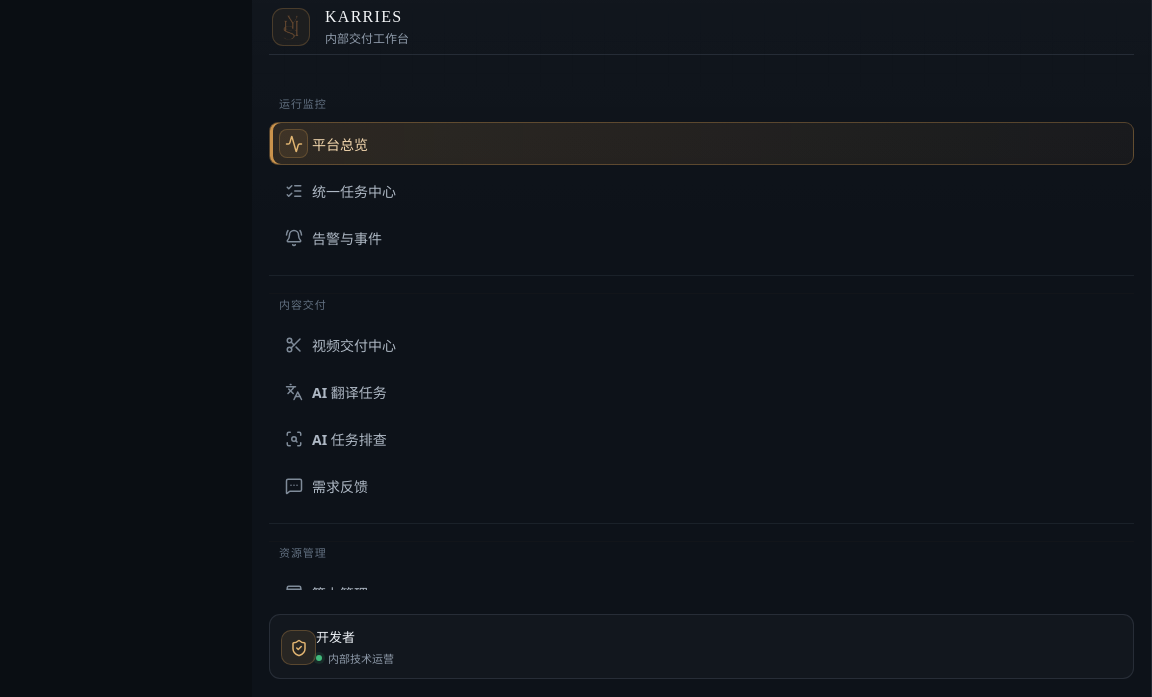
Test: opens the platform overview from the developer navigation
The image size is (1152, 697).
Step 1. Click the button "平台总览" → (340, 144), box [269,122,1134,165]
(page scrolled)
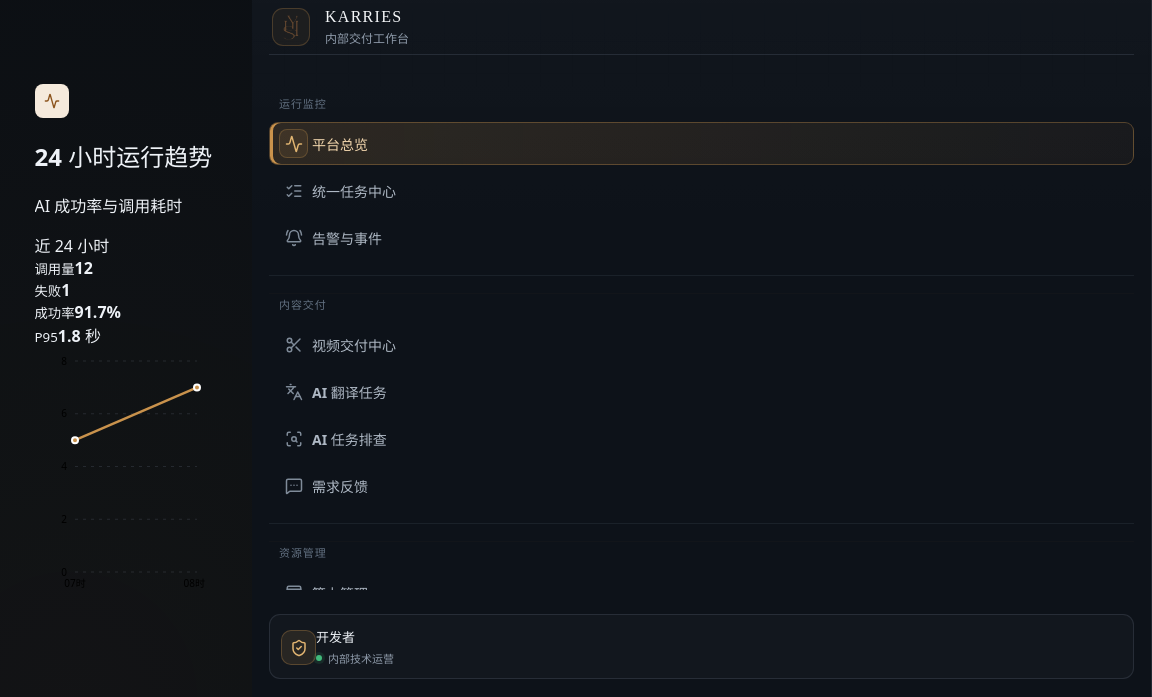
Now the heading "24 小时运行趋势" is shown, box [34,138,217,173]
Now the text "P95" is shown, box [34,328,58,346]
